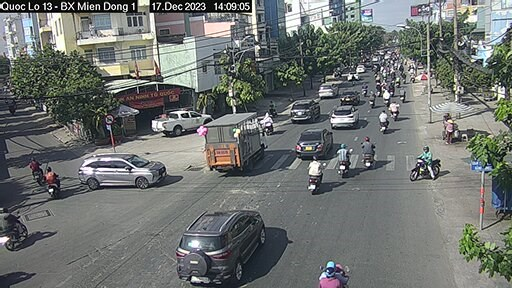car: (176, 205, 267, 285), (76, 152, 166, 190), (295, 125, 335, 161), (153, 109, 206, 135), (285, 97, 320, 122), (327, 106, 359, 129), (316, 84, 340, 99), (340, 92, 359, 106)
motorbike: (205, 111, 268, 172), (1, 205, 30, 250), (414, 147, 444, 182), (306, 156, 326, 193), (337, 144, 355, 179), (46, 167, 64, 200), (364, 137, 381, 169), (378, 107, 391, 139)
